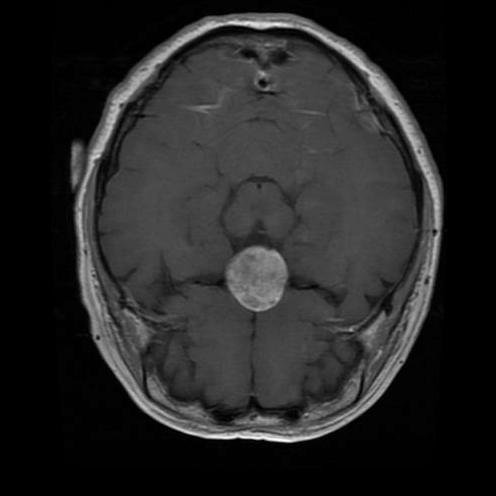Tumour-Pituitary: (220, 242, 292, 313)
